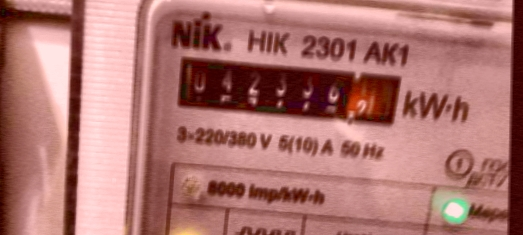0: (191, 62, 205, 92)
2: (243, 65, 262, 93)
3: (270, 66, 287, 95), (299, 68, 314, 96)
4: (217, 64, 234, 91)
6: (324, 74, 340, 101)
screen: (166, 45, 407, 131)
